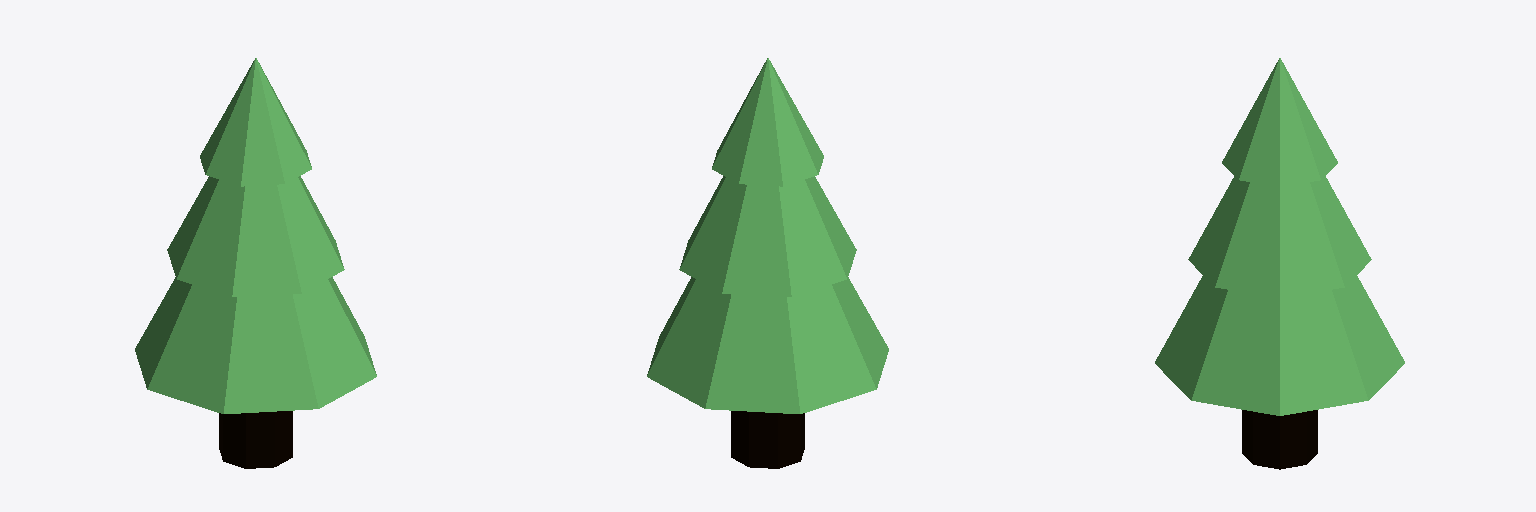
Rendered from CartoonTree.obj.
The picture shows the model from 3 angles: view 1: azimuth 30°, elevation 25°; view 2: azimuth 150°, elevation 25°; view 3: azimuth 270°, elevation 25°; orthographic projection.
Parts seen in each view (by area): view 1: Cone, Cone.001, Cone.002, Cylinder; view 2: Cone, Cone.001, Cone.002, Cylinder; view 3: Cone, Cone.001, Cone.002, Cylinder.
Boxes of the visible parts, box(x1,y1,x2,y2) form: Cone: box(135, 277, 376, 413); Cone.001: box(167, 176, 344, 296); Cone.002: box(200, 58, 311, 186); Cylinder: box(219, 411, 292, 468); Cone: box(647, 277, 888, 413); Cone.001: box(679, 176, 856, 296); Cone.002: box(712, 58, 823, 186); Cylinder: box(731, 411, 804, 468); Cone: box(1155, 276, 1404, 415); Cone.001: box(1188, 176, 1371, 298); Cone.002: box(1222, 58, 1337, 186); Cylinder: box(1242, 410, 1317, 469).
Size of the model in its own units: 4.17 by 7.29 by 4.17.